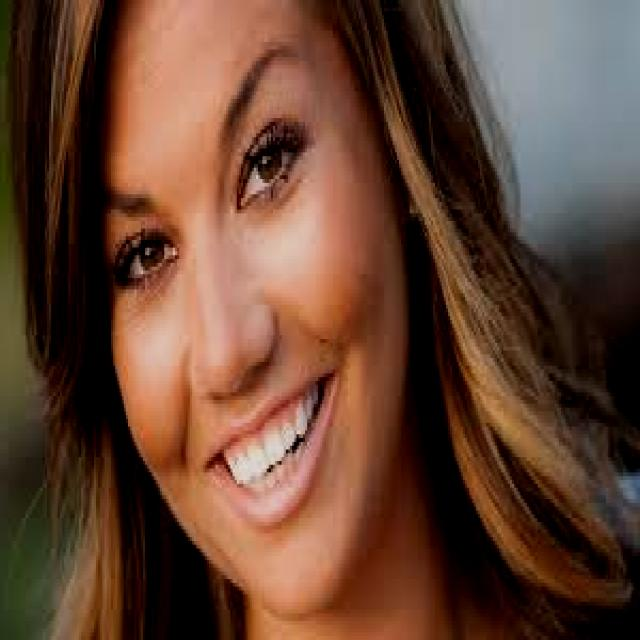normal_face: (130, 21, 352, 600)
